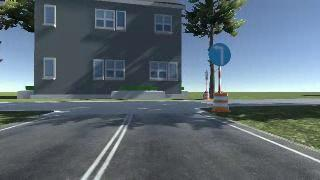turn_left: (209, 43, 230, 65)
